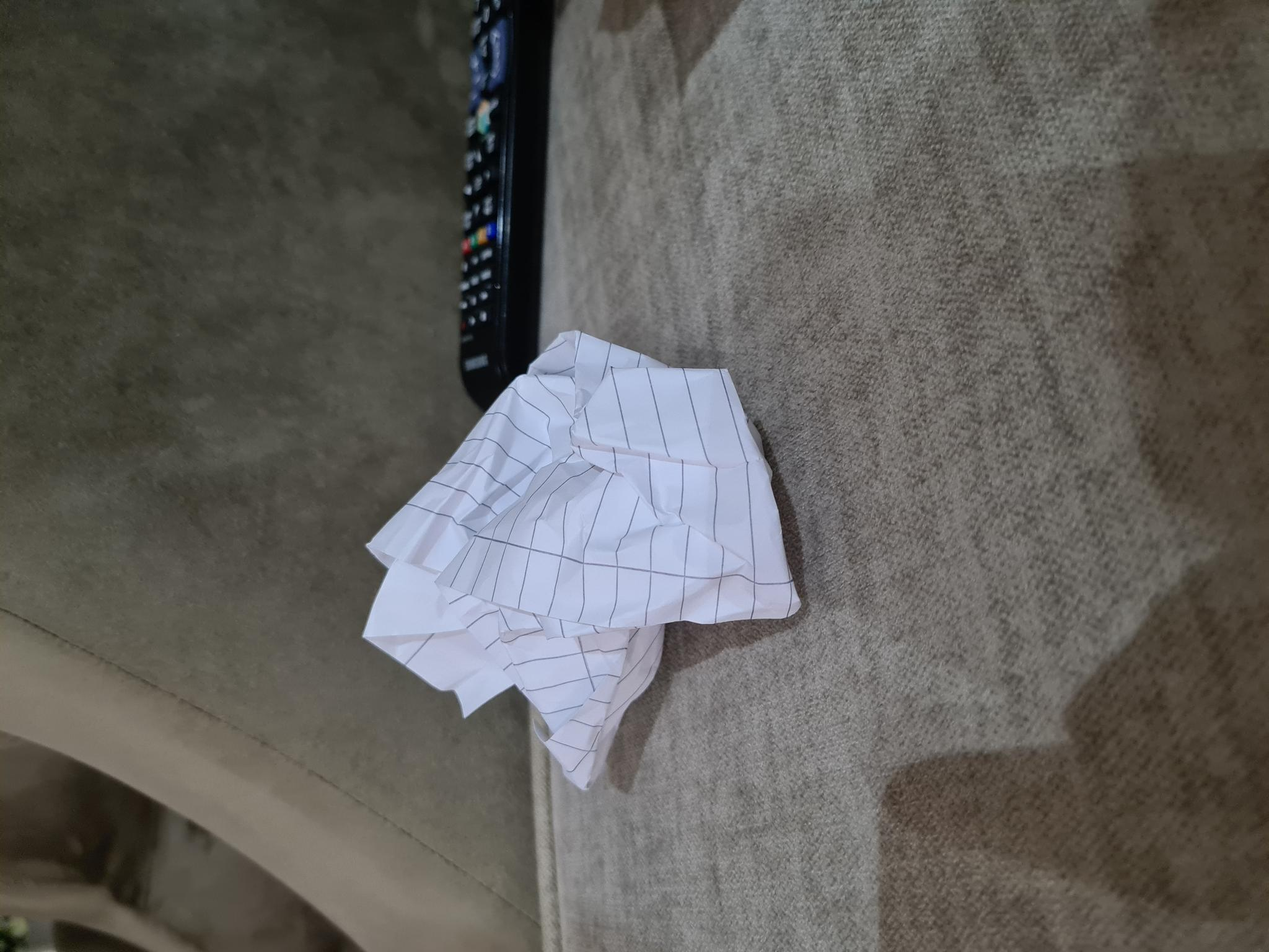Kertas: (145, 338, 657, 822)
